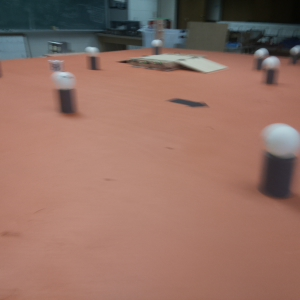blockB: (49, 59, 66, 71)
corner: (154, 17, 166, 38)
obstacle: (257, 123, 299, 199), (53, 72, 82, 116), (265, 57, 280, 86), (85, 46, 101, 71), (254, 49, 264, 72), (289, 45, 300, 65), (152, 39, 164, 53)
side: (131, 60, 171, 73)
slope: (176, 57, 229, 73)
start: (168, 96, 209, 111)
